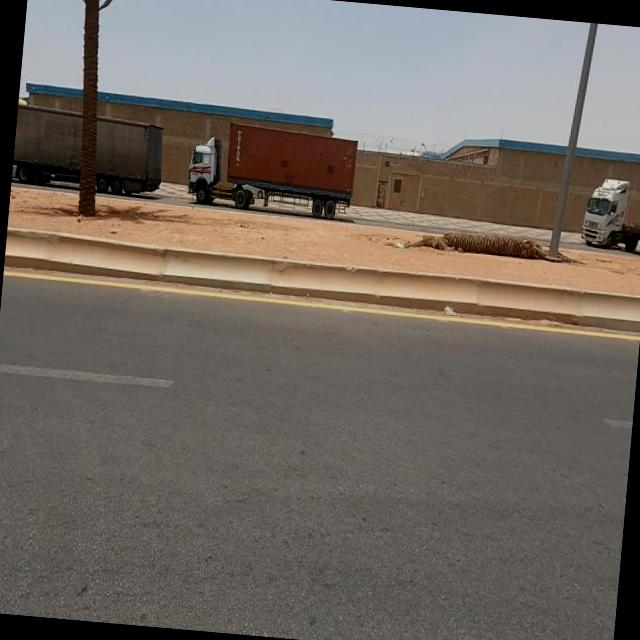debris: (368, 214, 426, 285), (420, 276, 472, 342)
